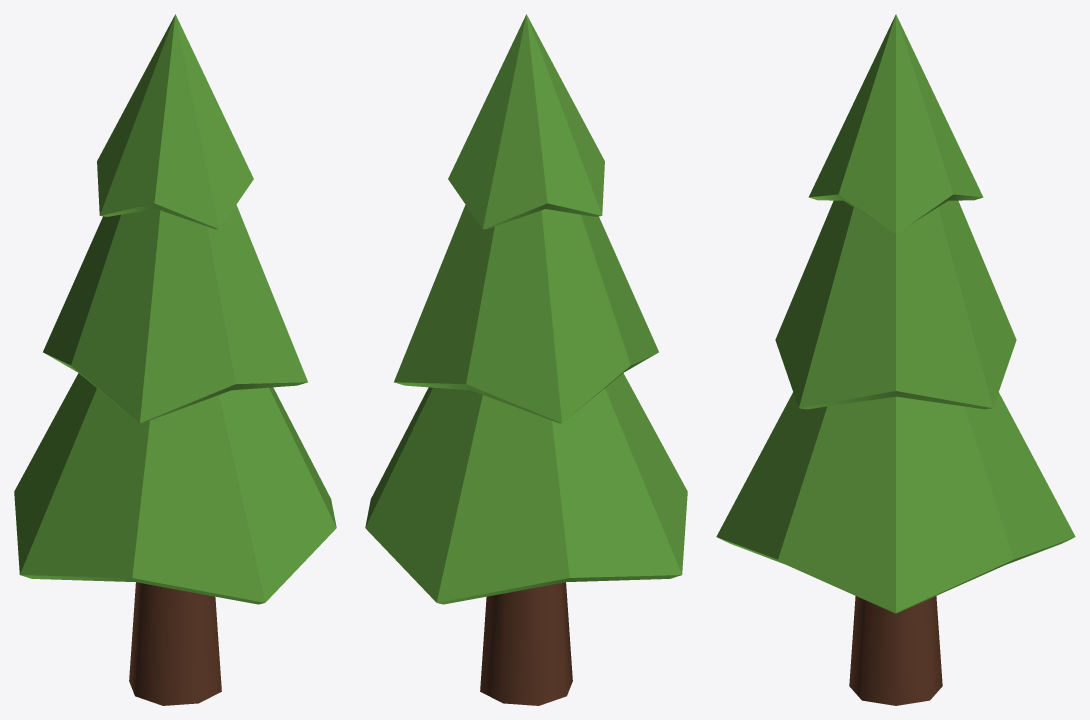
Rendered from Pine.lv.003.fbx.
3 renders of one model, left to right at view 1: azimuth 30°, elevation 25°; view 2: azimuth 150°, elevation 25°; view 3: azimuth 270°, elevation 25°, orthographic.
Visible parts, largest first — view 1: Plane.027; view 2: Plane.027; view 3: Plane.027.
Part boxes in pixels (<box>): Plane.027: <box>14,14,336,705</box>; Plane.027: <box>365,14,687,705</box>; Plane.027: <box>716,14,1075,705</box>.
Size of the model in its own units: 107 by 221 by 107.
